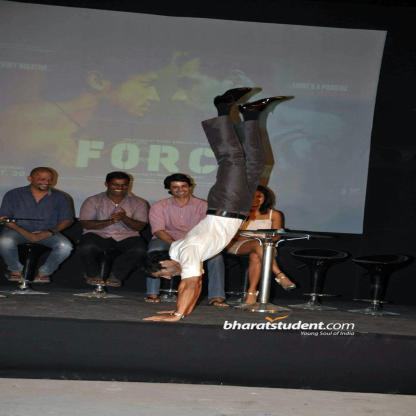face: (173, 61, 232, 122), (105, 65, 162, 119), (148, 266, 183, 280), (34, 172, 54, 192), (109, 179, 130, 197), (171, 182, 191, 199), (251, 192, 265, 207)
